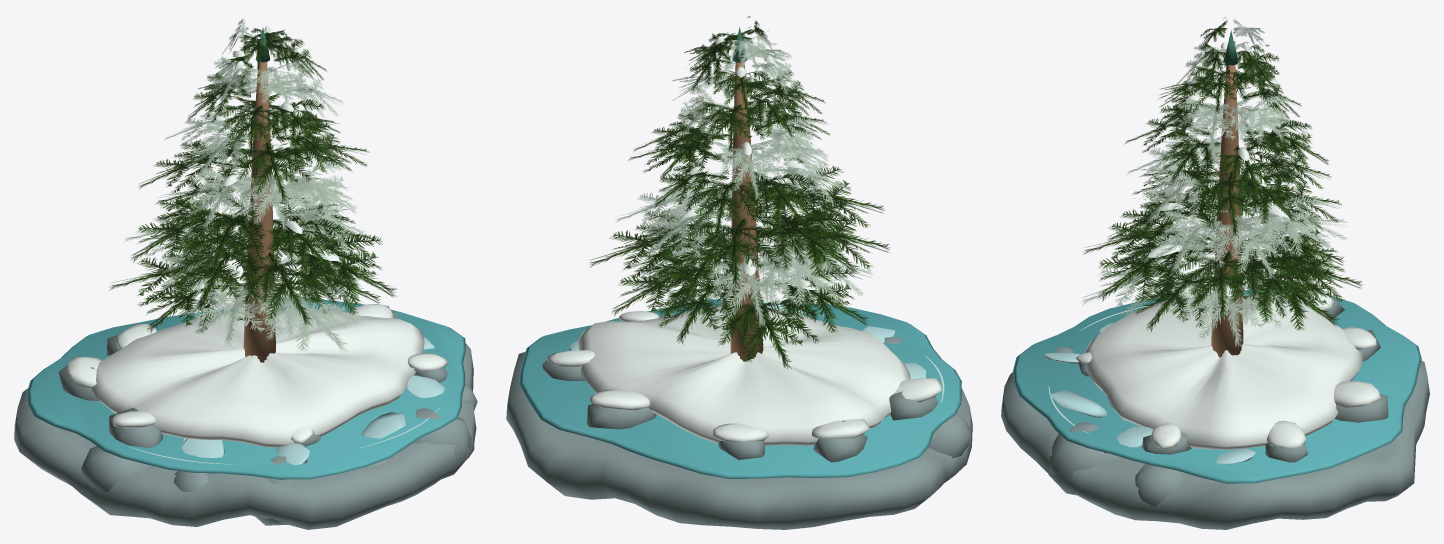
The model's file is snowy-island-v10.glb.
3 views of the same model, side by side, from view 1: azimuth 30°, elevation 25°; view 2: azimuth 150°, elevation 25°; view 3: azimuth 270°, elevation 25° (orthographic).
Visible parts, largest first — view 1: Snowy | Snow | soft, Snowy | Pine | twig atlas, Snowy | Rock | blue grey, Snowy | Pine | frost atlas, Snowy | Sea | icy turquoise, Snowy | Pine | bark, Snowy | Ice | pale blue; view 2: Snowy | Pine | twig atlas, Snowy | Snow | soft, Snowy | Rock | blue grey, Snowy | Sea | icy turquoise, Snowy | Pine | frost atlas, Snowy | Pine | bark, Snowy | Ice | pale blue; view 3: Snowy | Snow | soft, Snowy | Pine | twig atlas, Snowy | Rock | blue grey, Snowy | Sea | icy turquoise, Snowy | Pine | frost atlas, Snowy | Pine | bark, Snowy | Ice | pale blue.
Part boxes in pixels (<box>): Snowy | Snow | soft: <box>65,25,448,447</box>; Snowy | Pine | twig atlas: <box>109,27,396,333</box>; Snowy | Rock | blue grey: <box>14,310,477,529</box>; Snowy | Pine | frost atlas: <box>123,18,374,351</box>; Snowy | Sea | icy turquoise: <box>27,298,465,479</box>; Snowy | Pine | bark: <box>243,62,275,362</box>; Snowy | Ice | pale blue: <box>181,337,444,465</box>; Snowy | Pine | twig atlas: <box>590,16,889,369</box>; Snowy | Snow | soft: <box>547,36,941,445</box>; Snowy | Rock | blue grey: <box>506,301,972,529</box>; Snowy | Sea | icy turquoise: <box>519,299,961,478</box>; Snowy | Pine | frost atlas: <box>616,30,873,327</box>; Snowy | Pine | bark: <box>730,62,763,361</box>; Snowy | Ice | pale blue: <box>569,299,926,379</box>; Snowy | Snow | soft: <box>1075,42,1380,449</box>; Snowy | Pine | twig atlas: <box>1083,20,1362,331</box>; Snowy | Rock | blue grey: <box>1001,291,1429,529</box>; Snowy | Sea | icy turquoise: <box>1013,287,1421,483</box>; Snowy | Pine | frost atlas: <box>1081,16,1346,347</box>; Snowy | Pine | bark: <box>1211,65,1243,357</box>; Snowy | Ice | pale blue: <box>1044,322,1255,464</box>.
Size of the model in its own units: 1.64 by 1.59 by 1.44.
9 materials, 2 textured.
